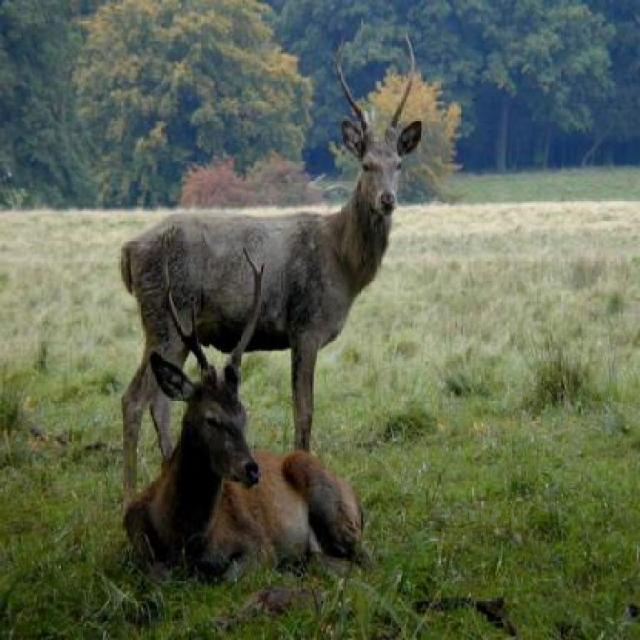Deer: (116, 31, 427, 508), (122, 248, 378, 577)
